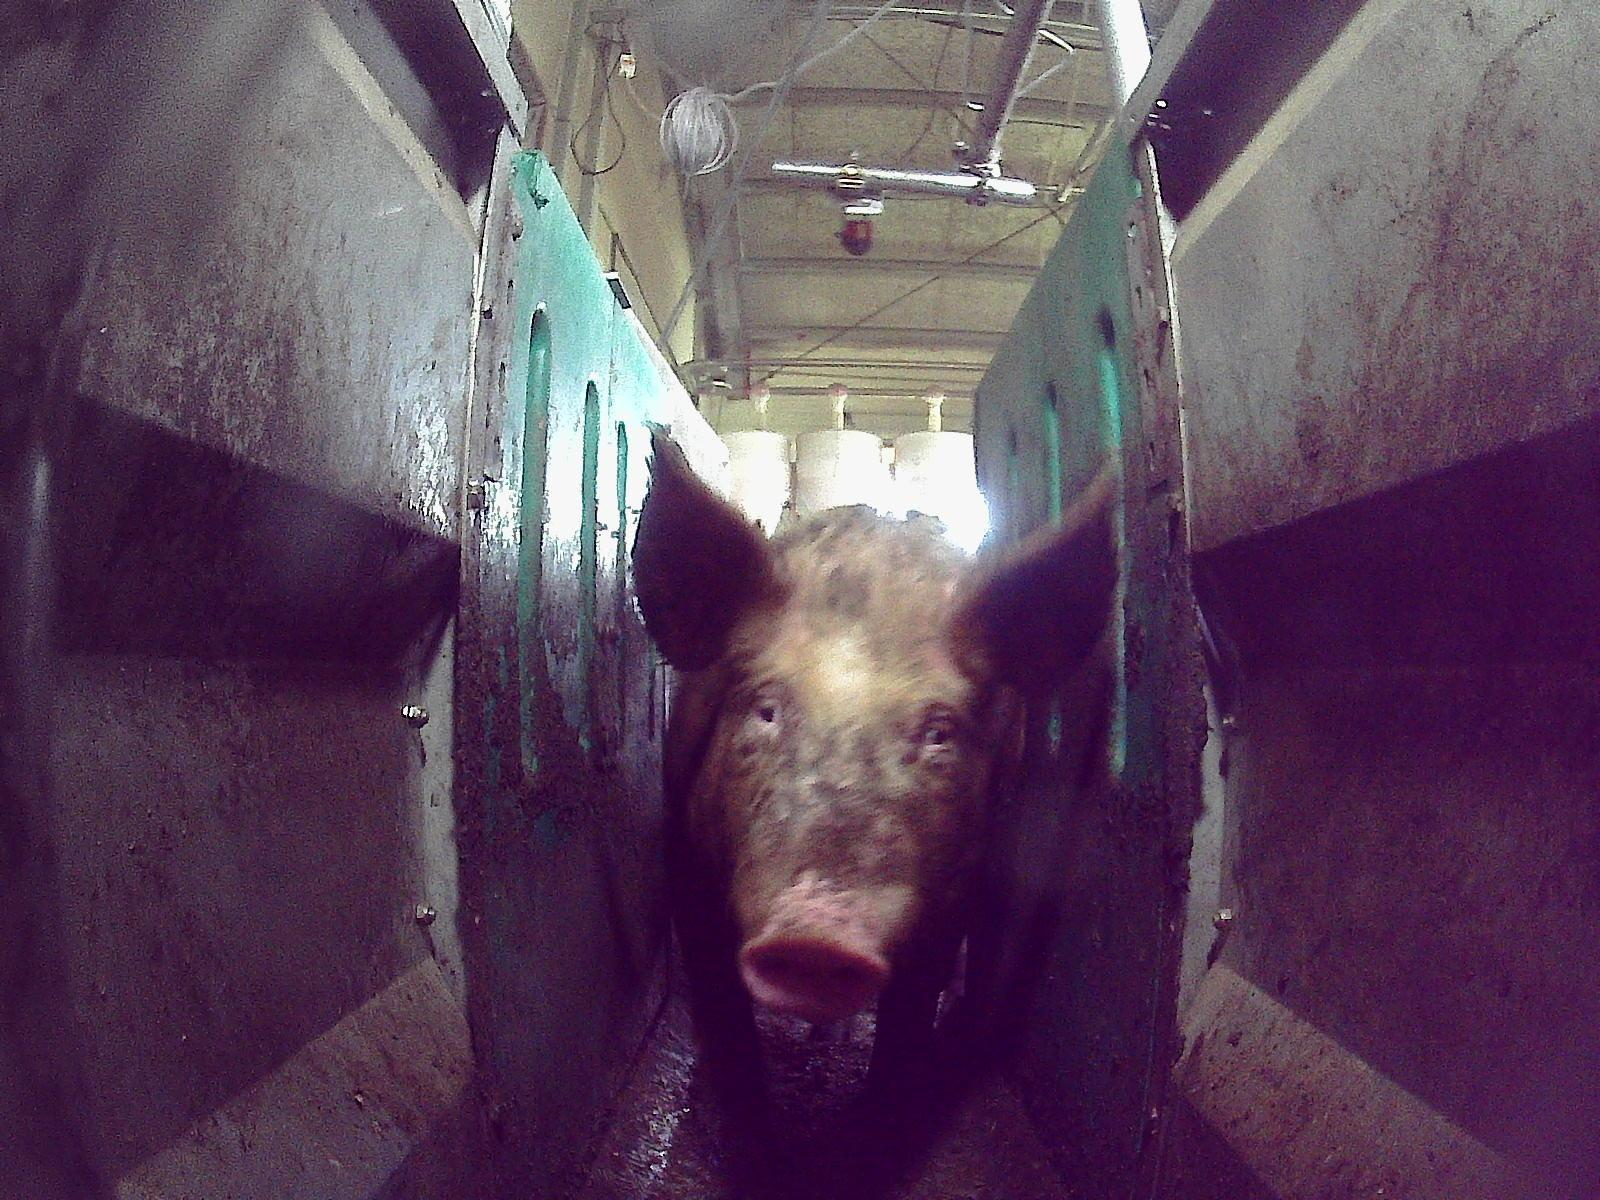Face: (709, 580, 984, 1012)
